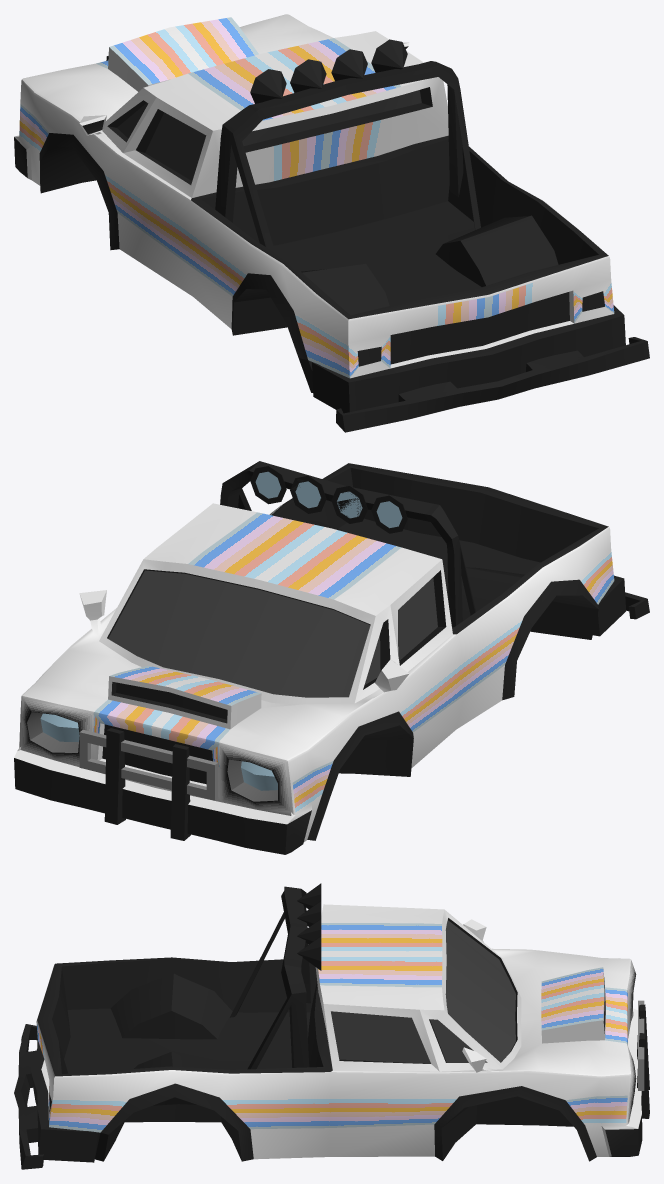
File: truck_body3.glb
The picture shows the model from 3 angles, top to bottom: view 1: azimuth 30°, elevation 25°; view 2: azimuth 150°, elevation 25°; view 3: azimuth 270°, elevation 25°; orthographic projection. The views are drawn at different scales.
Parts seen in each view (by area): view 1: truck_body; view 2: truck_body; view 3: truck_body.
Boxes of the visible parts, bbox=[...] form: truck_body: bbox=[14, 14, 649, 432]; truck_body: bbox=[14, 461, 649, 854]; truck_body: bbox=[14, 883, 649, 1169].
Bounding box in the file's own units: 1.62 × 1.04 × 3.05.
Materials: 1 (1 with a texture image).
